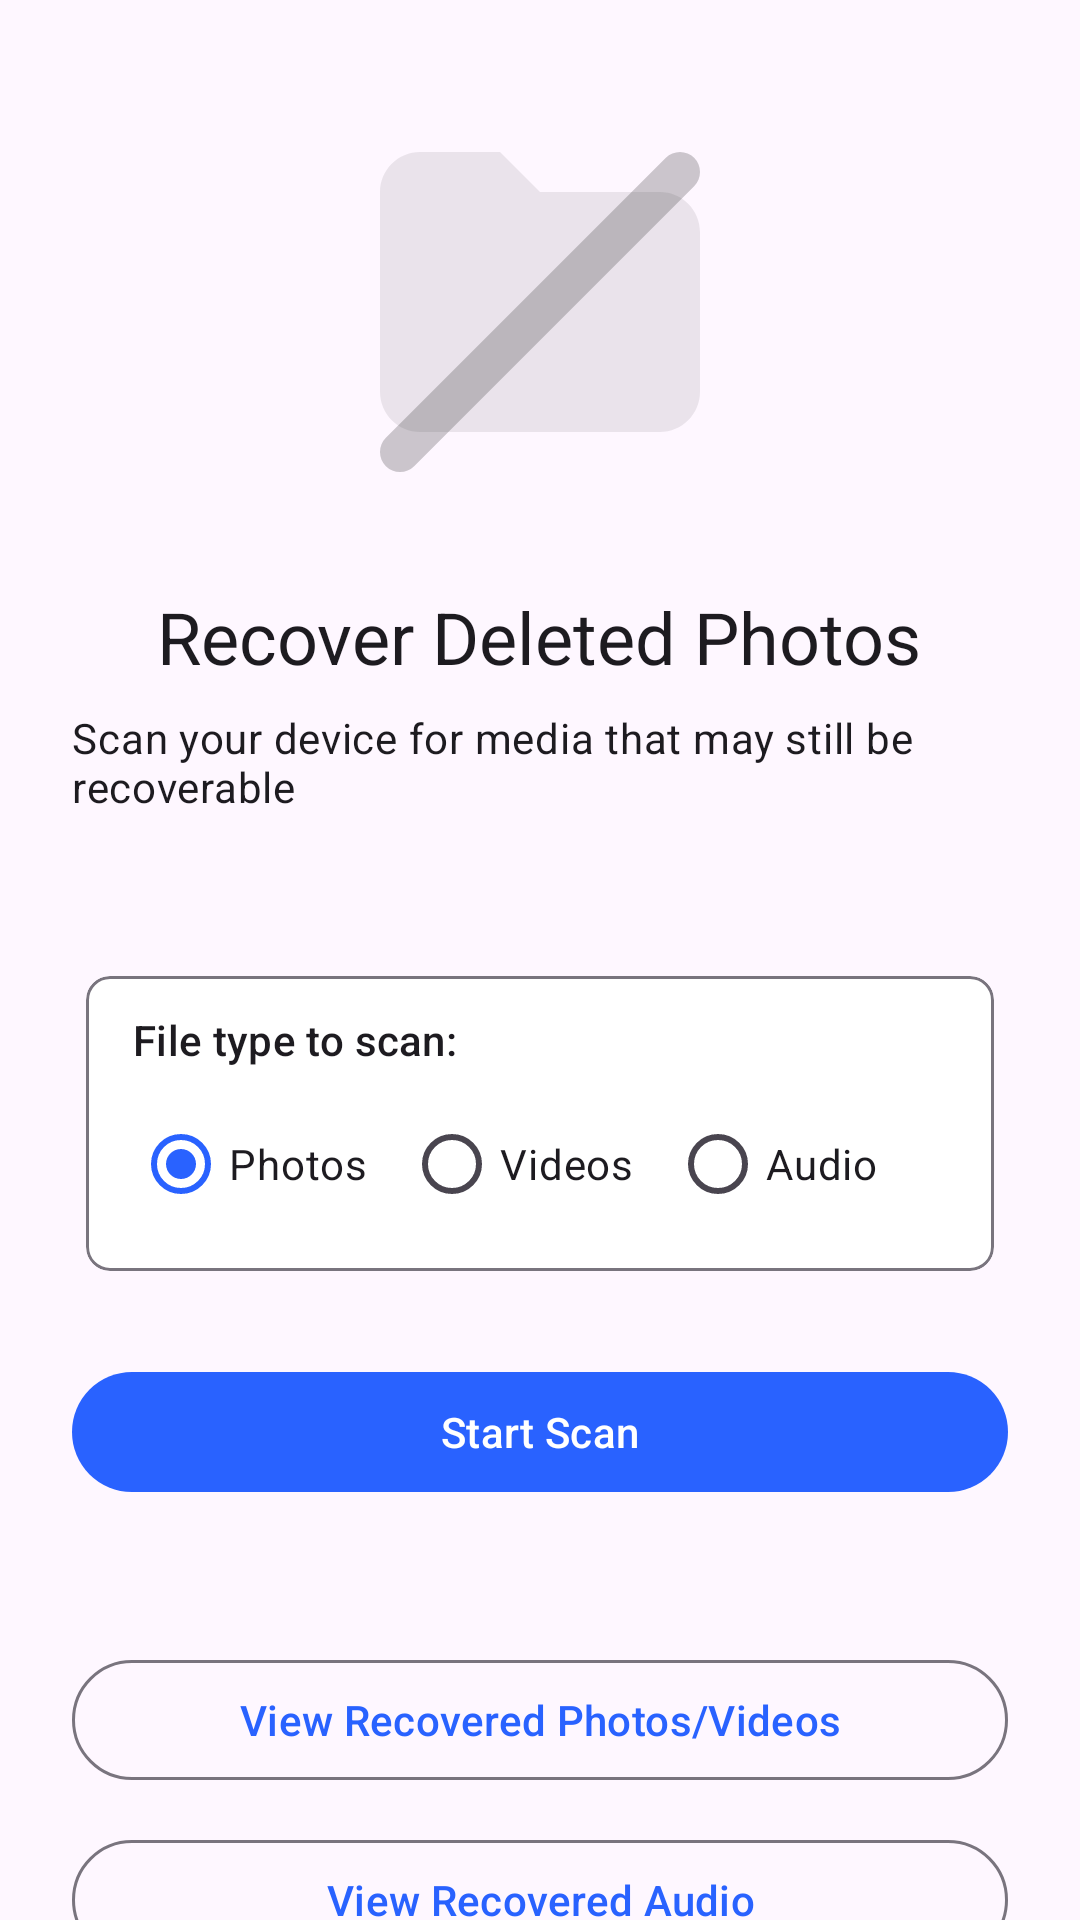

Named icons in this screenshot (1080px x 1920px) and their centers, (x,y):
empty state: (540,312)
